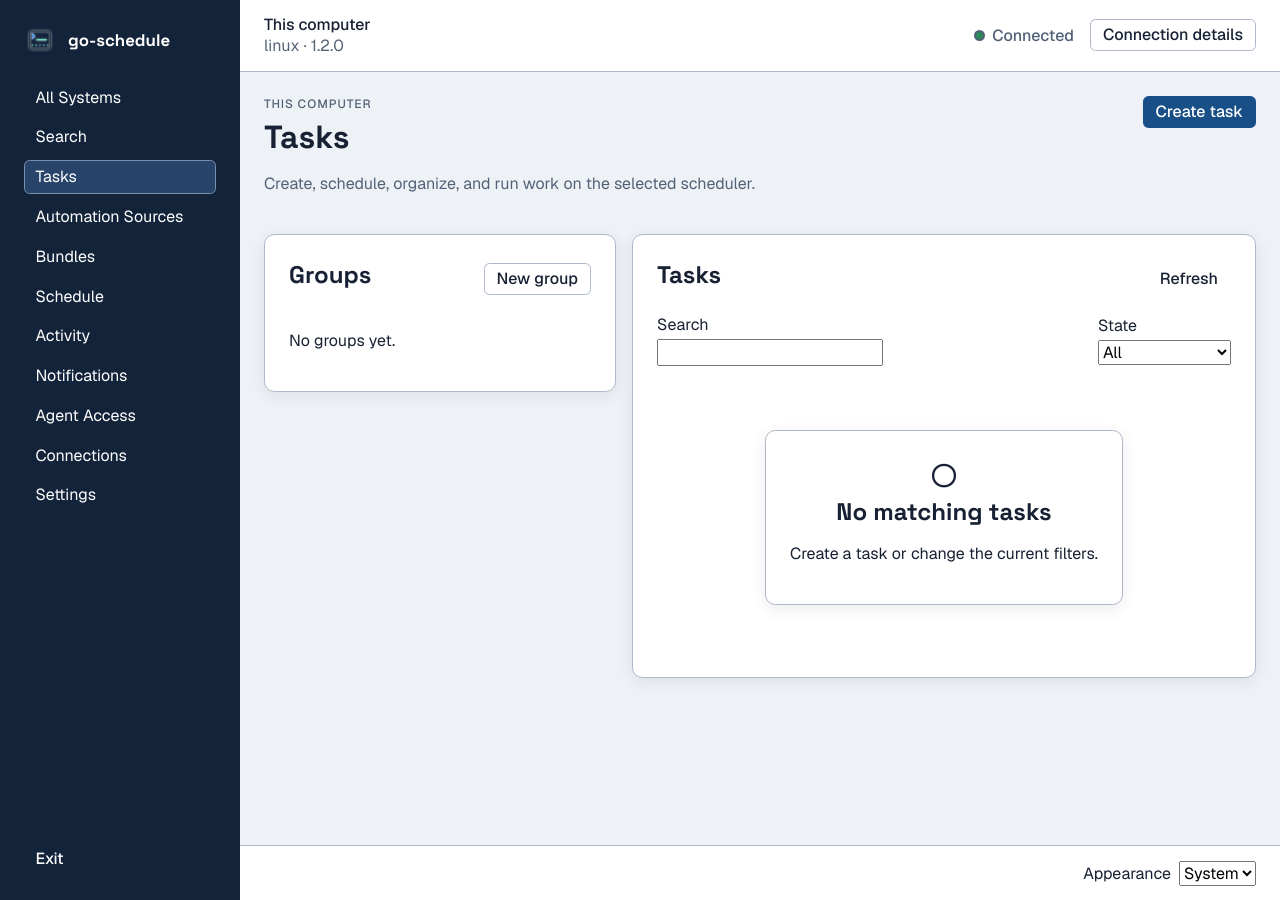
Test: production shell › announces repeated identical settings outcomes
Select "Dark" in the dropdown labelled "Appearance" at (1218, 873), box [1179,861,1256,886]
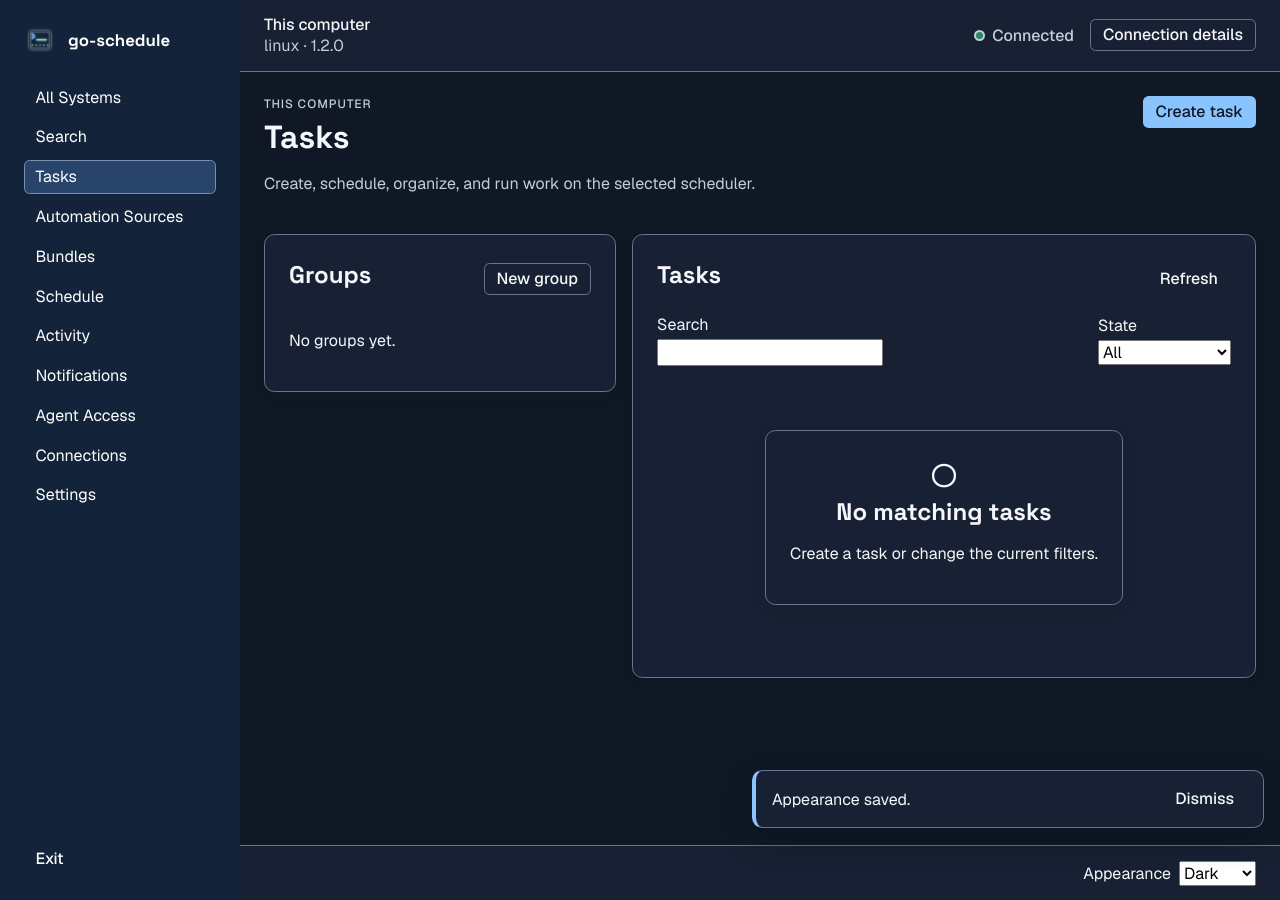
Expected: the text "Appearance saved." is shown, [772,788,910,810]
Click the button with aria-label "Dismiss notification" at (1205, 799), box [1162,783,1247,815]
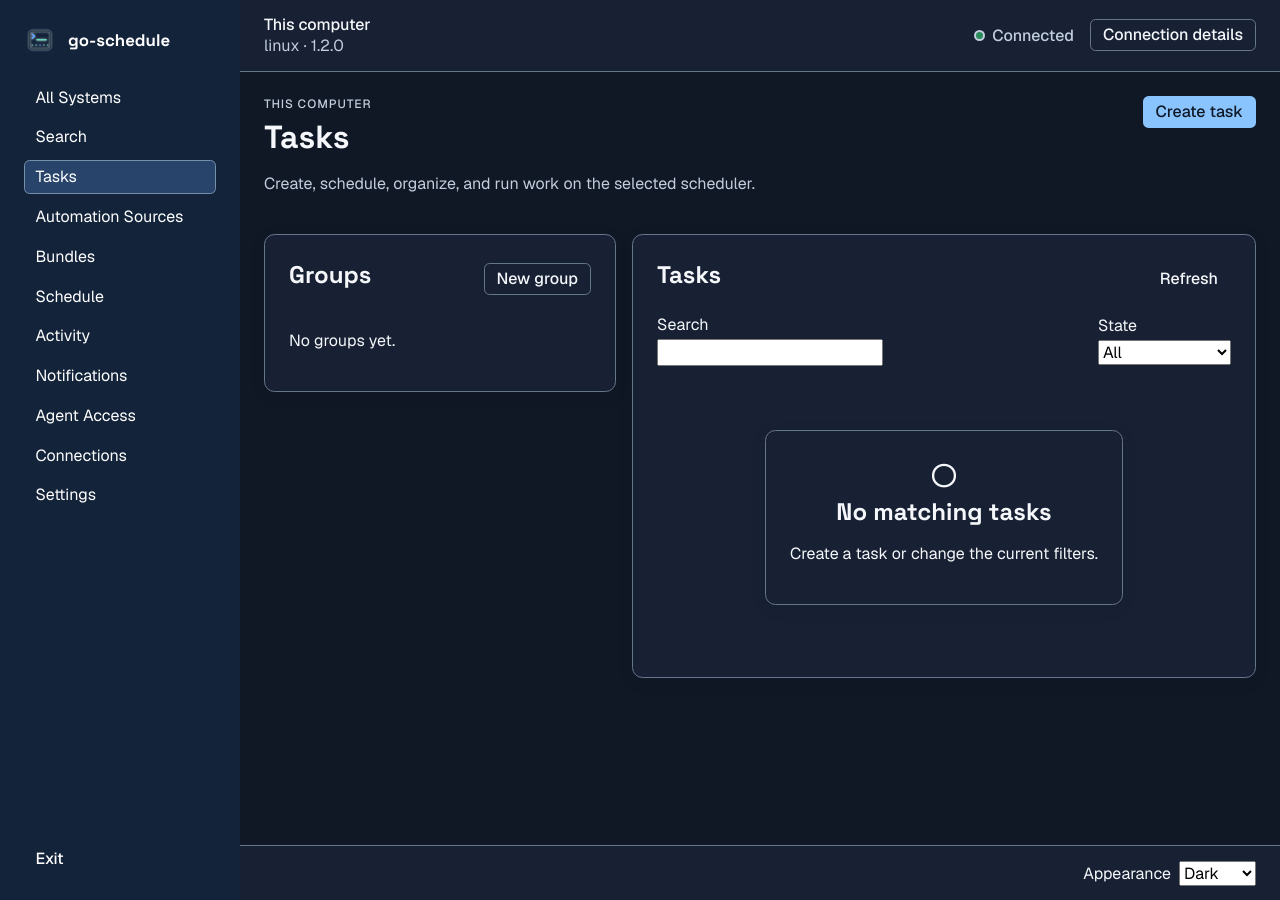
Select "Light" in the dropdown labelled "Appearance" at (1218, 873), box [1179,861,1256,886]
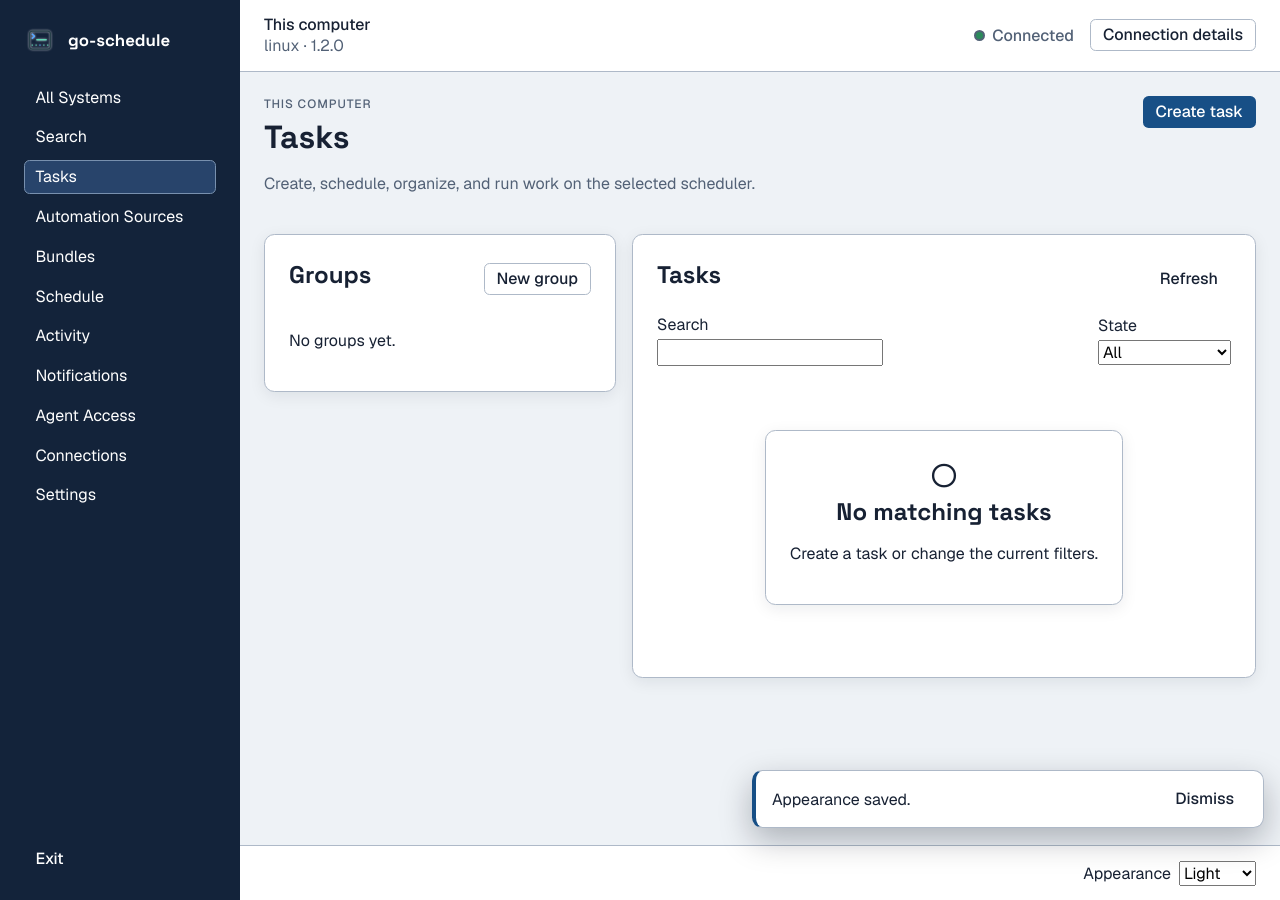
Expected: the text "Appearance saved." is shown, [772,788,910,810]
